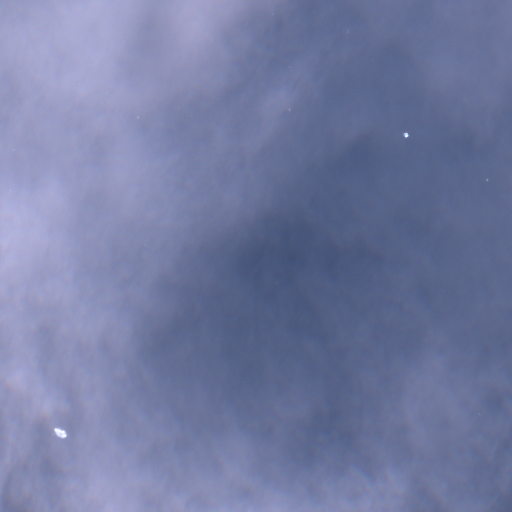Iceberg: (54, 428, 66, 438), (404, 133, 408, 137), (137, 116, 138, 117), (486, 179, 487, 180)
